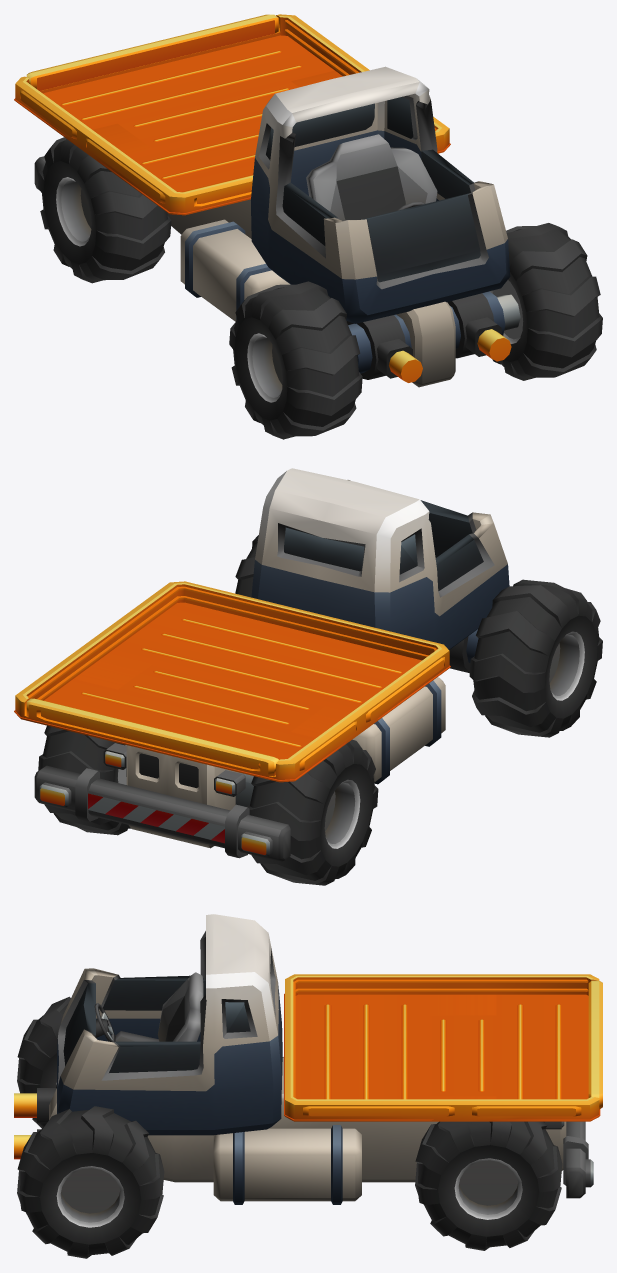
Rendered from car.fbx.
3 renders of one model, top to bottom at view 1: azimuth 30°, elevation 25°; view 2: azimuth 150°, elevation 25°; view 3: azimuth 270°, elevation 25°, orthographic. The views are drawn at different scales.
Visible parts, largest first — view 1: Car_14F_Seat.L1, Tailgate_10A, Wheel_1, CarShape, Wheel_2; view 2: Tailgate_10A, Car_14F_Seat.L1, CarShape, Wheel_1, Wheel_2; view 3: Tailgate_10A, Car_14F_Seat.L1, CarShape, Wheel_1, Wheel_2.
Part boxes in pixels (bbox=[...]): Car_14F_Seat.L1: bbox=[251, 66, 510, 323]; Tailgate_10A: bbox=[14, 14, 450, 215]; Wheel_1: bbox=[229, 223, 602, 439]; CarShape: bbox=[34, 156, 520, 387]; Wheel_2: bbox=[38, 137, 171, 283]; Tailgate_10A: bbox=[14, 581, 450, 782]; Car_14F_Seat.L1: bbox=[251, 468, 509, 649]; CarShape: bbox=[34, 629, 478, 861]; Wheel_1: bbox=[235, 535, 602, 737]; Wheel_2: bbox=[38, 725, 378, 885]; Tailgate_10A: bbox=[284, 974, 602, 1121]; Car_14F_Seat.L1: bbox=[57, 914, 282, 1135]; CarShape: bbox=[14, 1057, 593, 1204]; Wheel_1: bbox=[17, 996, 164, 1258]; Wheel_2: bbox=[415, 1121, 562, 1250].
Size of the model in its own units: 22.74 by 18.34 by 39.09.
